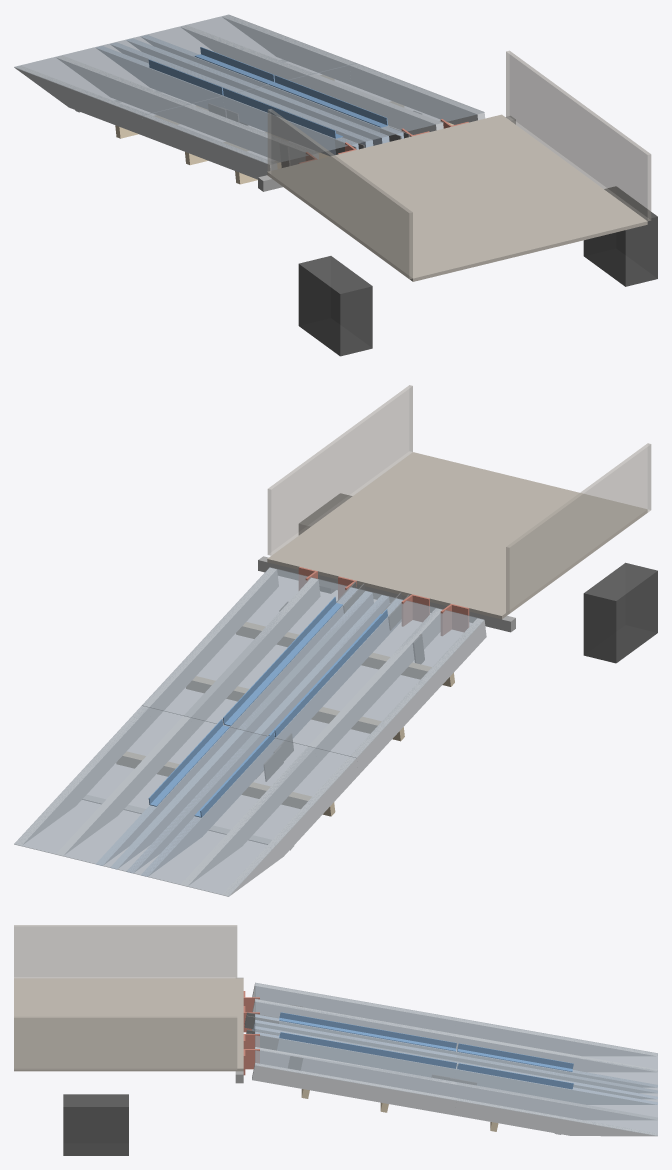
File: trap_v2_rozlozony.glb
The picture shows the model from 3 angles, top to bottom: view 1: azimuth 30°, elevation 25°; view 2: azimuth 150°, elevation 25°; view 3: azimuth 270°, elevation 25°; orthographic projection. The views are drawn at different scales.
Visible parts, largest first — view 1: 044_podłoga przyczepy, 021_siatka Al, 020_siatka Al, 046_burta, 047_burta, 049_koło przyczepy, 048_koło przyczepy, 013_podłużnica 100×40×2, 012_podłużnica 100×40×2, 015_podłużnica 100×40×2, 011_podłużnica 100×40×2, 014_podłużnica 100×40×2 (+16 smaller); view 2: 021_siatka Al, 044_podłoga przyczepy, 020_siatka Al, 047_burta, 046_burta, 049_koło przyczepy, 013_podłużnica 100×40×2, 012_podłużnica 100×40×2, 008_podłużnica 100×40×2, 009_podłużnica 100×40×2, 015_podłużnica 100×40×2, 014_podłużnica 100×40×2 (+18 smaller); view 3: 044_podłoga przyczepy, 021_siatka Al, 020_siatka Al, 046_burta, 047_burta, 048_koło przyczepy, 012_podłużnica 100×40×2, 013_podłużnica 100×40×2, 014_podłużnica 100×40×2, 008_podłużnica 100×40×2, 015_podłużnica 100×40×2, 010_podłużnica 100×40×2 (+16 smaller).
Part boxes in pixels (x1,y1,x2,y2): 044_podłoga przyczepy: [267, 114, 647, 281]; 021_siatka Al: [14, 14, 355, 115]; 020_siatka Al: [142, 63, 484, 164]; 046_burta: [506, 50, 651, 220]; 047_burta: [267, 109, 412, 279]; 049_koło przyczepy: [298, 256, 372, 356]; 048_koło przyczepy: [583, 186, 657, 286]; 013_podłużnica 100×40×2: [142, 114, 277, 179]; 012_podłużnica 100×40×2: [350, 63, 485, 124]; 015_podłużnica 100×40×2: [14, 66, 146, 135]; 011_podłużnica 100×40×2: [56, 55, 188, 125]; 014_podłużnica 100×40×2: [222, 15, 354, 84]; 021_siatka Al: [14, 705, 356, 896]; 044_podłoga przyczepy: [267, 452, 647, 619]; 020_siatka Al: [142, 567, 484, 757]; 047_burta: [506, 443, 651, 613]; 046_burta: [267, 385, 412, 555]; 049_koło przyczepy: [583, 562, 657, 663]; 013_podłużnica 100×40×2: [350, 618, 486, 774]; 012_podłużnica 100×40×2: [142, 567, 278, 723]; 008_podłużnica 100×40×2: [184, 578, 320, 733]; 009_podłużnica 100×40×2: [309, 608, 441, 764]; 015_podłużnica 100×40×2: [222, 757, 358, 896]; 014_podłużnica 100×40×2: [14, 706, 150, 845]; 044_podłoga przyczepy: [14, 978, 243, 1071]; 021_siatka Al: [456, 1018, 657, 1135]; 020_siatka Al: [255, 982, 456, 1100]; 046_burta: [14, 1016, 237, 1069]; 047_burta: [14, 925, 237, 978]; 048_koło przyczepy: [63, 1094, 128, 1155]; 012_podłużnica 100×40×2: [252, 1063, 456, 1115]; 013_podłużnica 100×40×2: [252, 983, 456, 1033]; 014_podłużnica 100×40×2: [453, 1098, 657, 1136]; 008_podłużnica 100×40×2: [254, 1047, 456, 1096]; 015_podłużnica 100×40×2: [454, 1018, 657, 1056]; 010_podłużnica 100×40×2: [454, 1082, 657, 1119].
Size of the model in its own units: 1.76 by 0.83 by 3.92.
